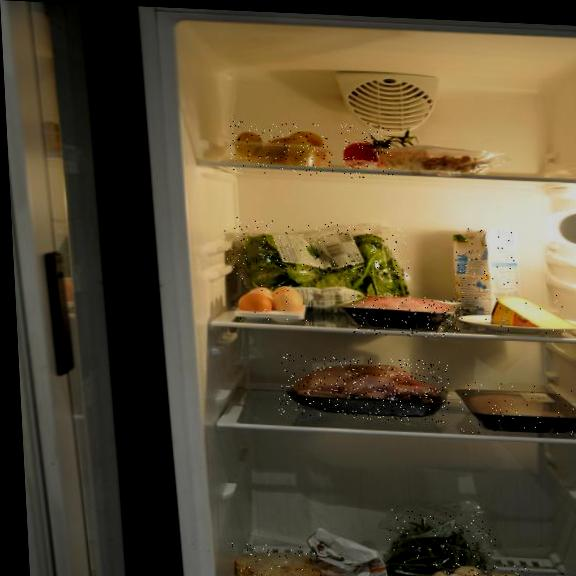bread: (230, 543, 323, 576)
cheese: (478, 290, 576, 336)
chicken: (275, 353, 451, 423)
eggs: (228, 278, 310, 327)
green beans: (388, 509, 499, 573)
meat: (458, 381, 576, 440), (351, 293, 465, 339)
milk: (451, 228, 520, 309)
mushroom: (425, 562, 537, 576)
potatoes: (227, 120, 333, 176)
spinach: (223, 217, 409, 281)
tomatoes: (339, 121, 394, 181)
